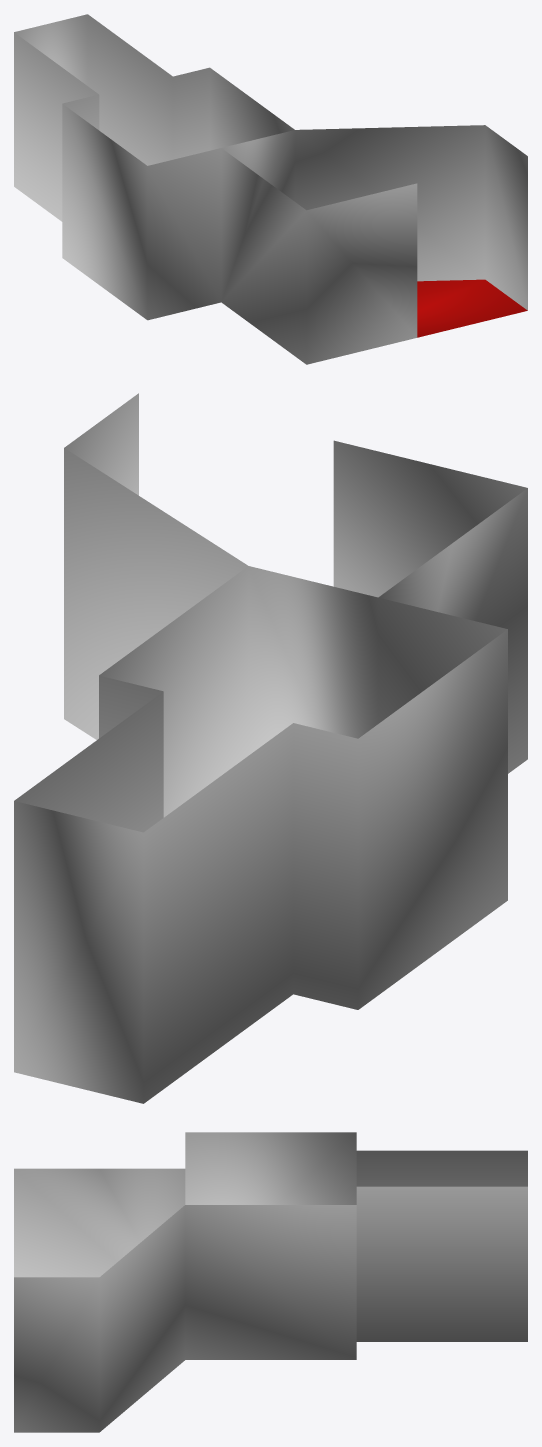
The model's file is bathroom.fbx.
3 views of the same model, one above another, from view 1: azimuth 30°, elevation 25°; view 2: azimuth 150°, elevation 25°; view 3: azimuth 270°, elevation 25° (orthographic). The views are drawn at different scales.
Visible parts, largest first — view 1: Cube; view 2: Cube; view 3: Cube.
Boxes of the visible parts, x1=… form: Cube: x1=14, y1=14, x2=527, y2=364; Cube: x1=14, y1=393, x2=527, y2=1103; Cube: x1=14, y1=1132, x2=527, y2=1432.
Size of the model in its own units: 4000 by 6000 by 2000.
